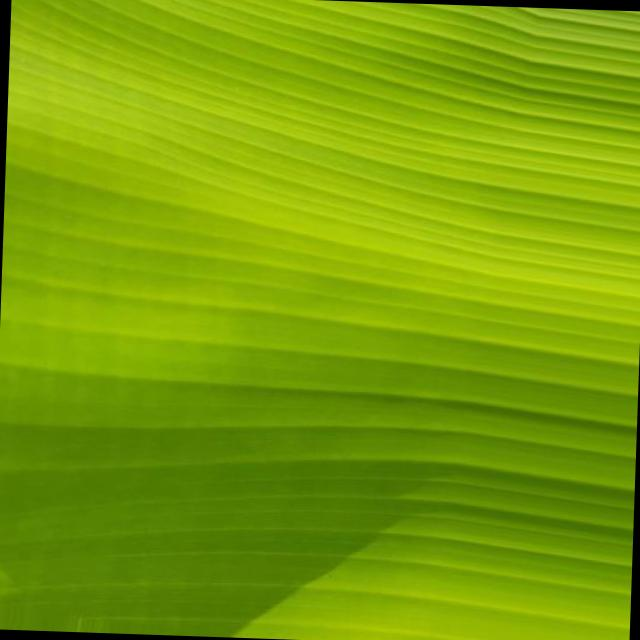Banana_Healthy: (140, 78, 600, 516)
